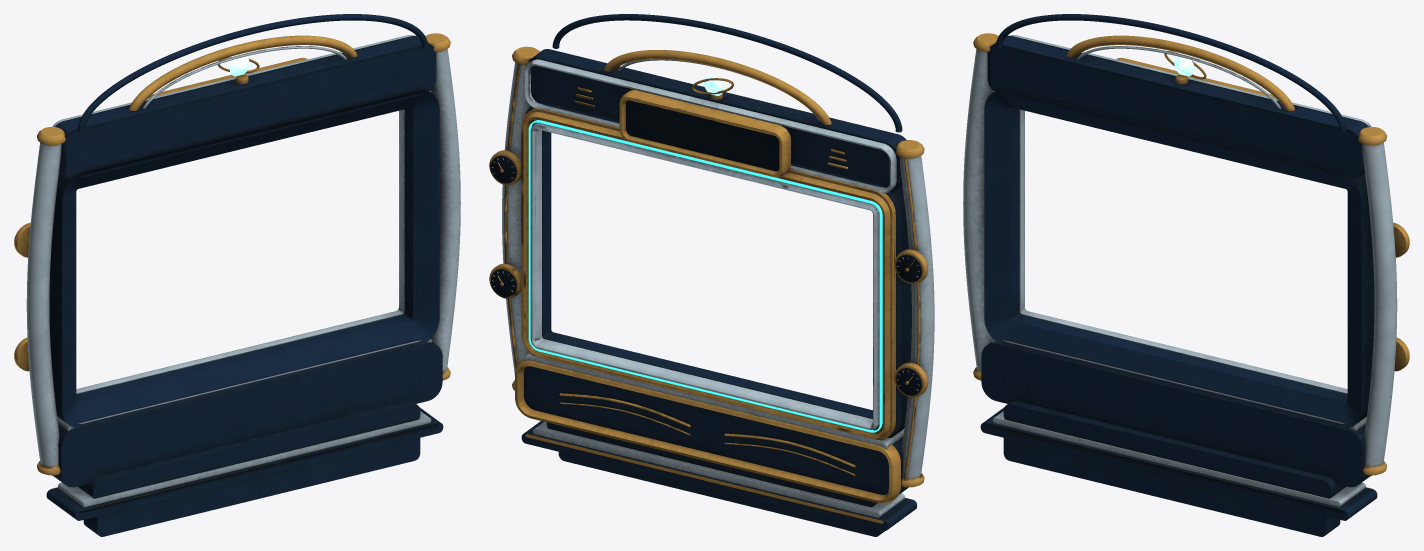
3 views of the same model, side by side, from view 1: azimuth 30°, elevation 25°; view 2: azimuth 150°, elevation 25°; view 3: azimuth 330°, elevation 25° (orthographic).
Parts seen in each view (by area): view 1: Midnight_navy_enamel, Observatory_satin_chrome, Warm_orbital_brass; view 2: Midnight_navy_enamel, Observatory_satin_chrome, Warm_orbital_brass, Uniform_dark_instrument_face, Teal_neon_glow; view 3: Midnight_navy_enamel, Observatory_satin_chrome, Warm_orbital_brass.
Part boxes in pixels (x1,y1,x2,y2): Midnight_navy_enamel: [46, 14, 443, 536]; Observatory_satin_chrome: [26, 35, 460, 507]; Warm_orbital_brass: [14, 33, 450, 510]; Midnight_navy_enamel: [521, 14, 917, 536]; Observatory_satin_chrome: [491, 59, 934, 517]; Warm_orbital_brass: [489, 46, 928, 523]; Uniform_dark_instrument_face: [491, 100, 921, 395]; Teal_neon_glow: [528, 120, 882, 432]; Midnight_navy_enamel: [980, 14, 1377, 536]; Observatory_satin_chrome: [963, 35, 1397, 507]; Warm_orbital_brass: [973, 33, 1409, 511].
Bounding box in the file's own units: 9.02 × 9.2 × 1.18.
6 materials, 4 textured.
